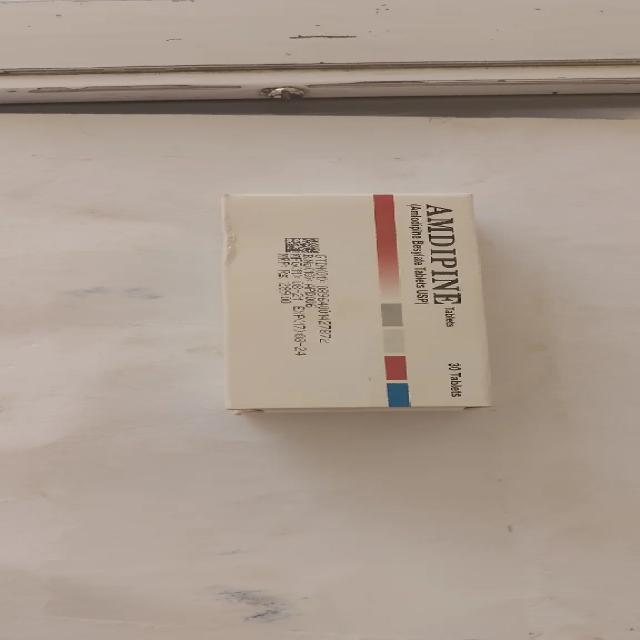drug-name: (425, 203, 465, 307)
